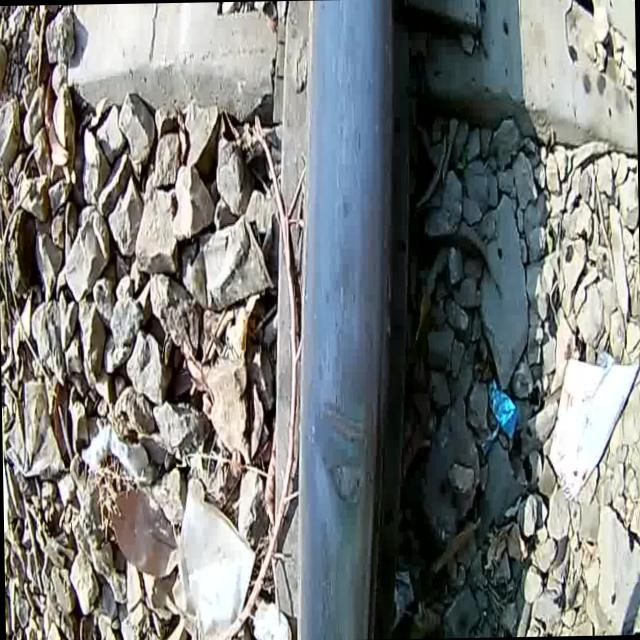Squats: (260, 0, 429, 640)
